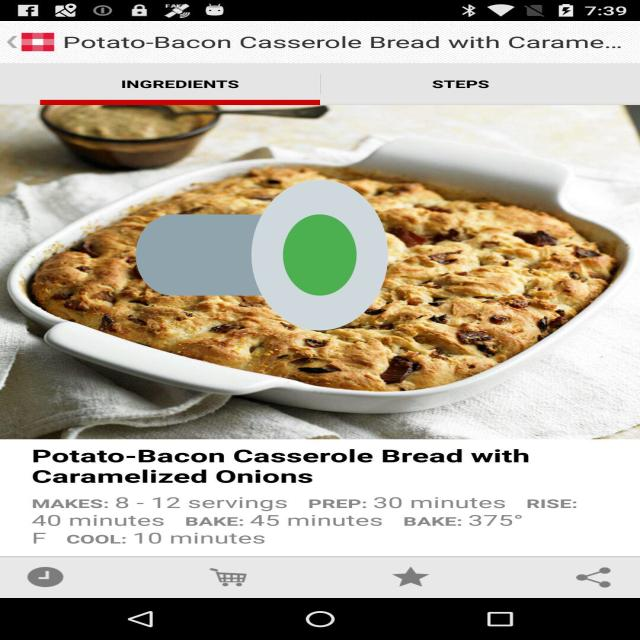social proof: (136, 116, 388, 394)
